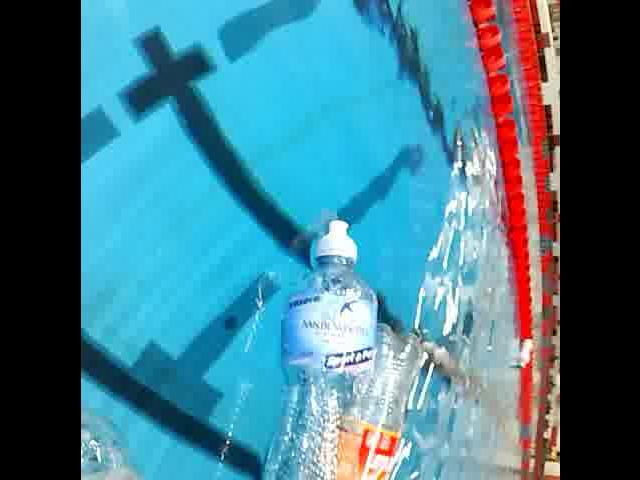Bottle: (246, 214, 376, 480), (302, 317, 428, 480), (80, 375, 187, 480), (512, 335, 534, 373)
